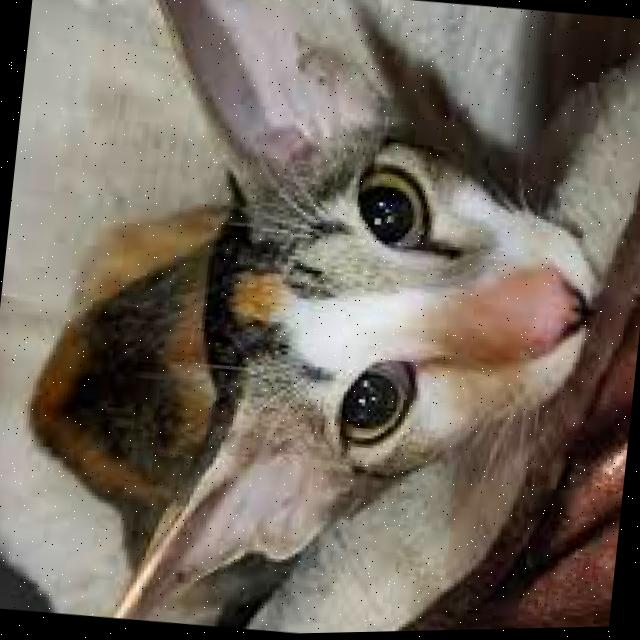Oriental: (0, 0, 630, 640)
